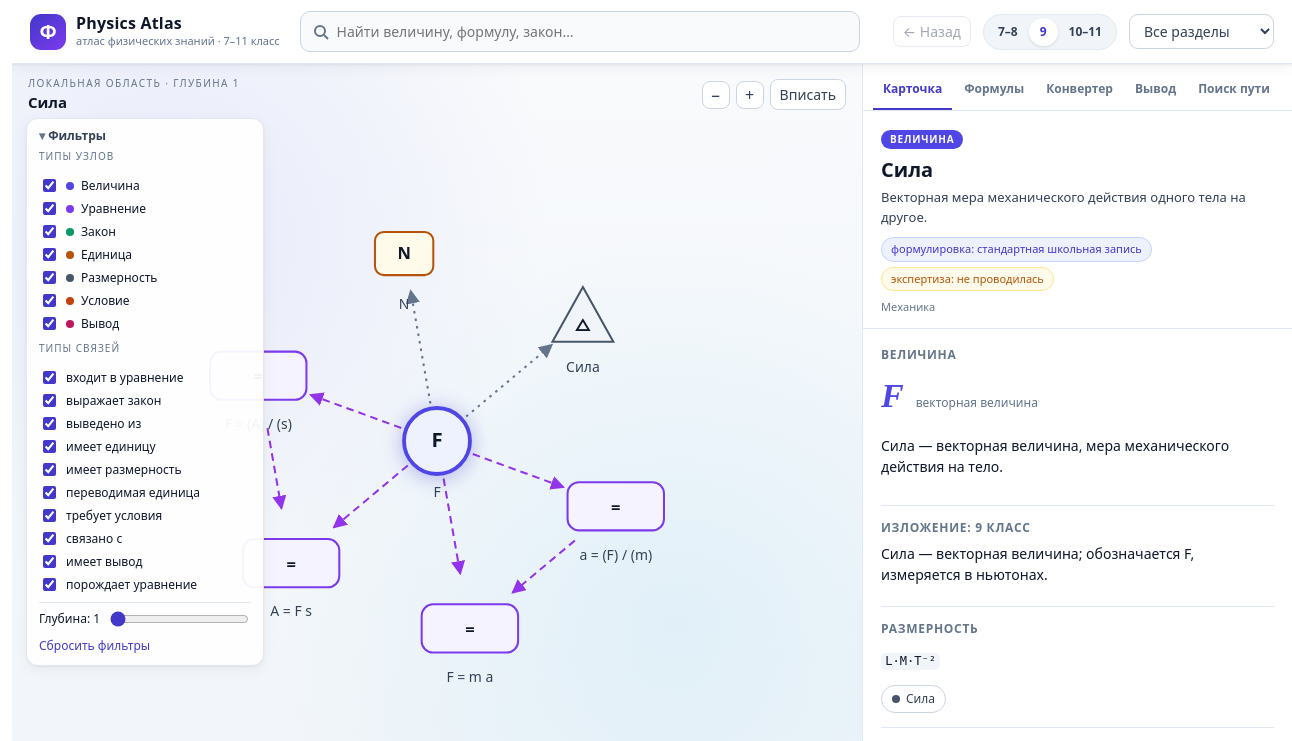
Test case: atlas application › finds a quantity through search and selects it
Step 1. Type "масса" into the dropdown named "Поиск по атласу" → (580, 32), box x1=300 y1=11 x2=860 y2=52
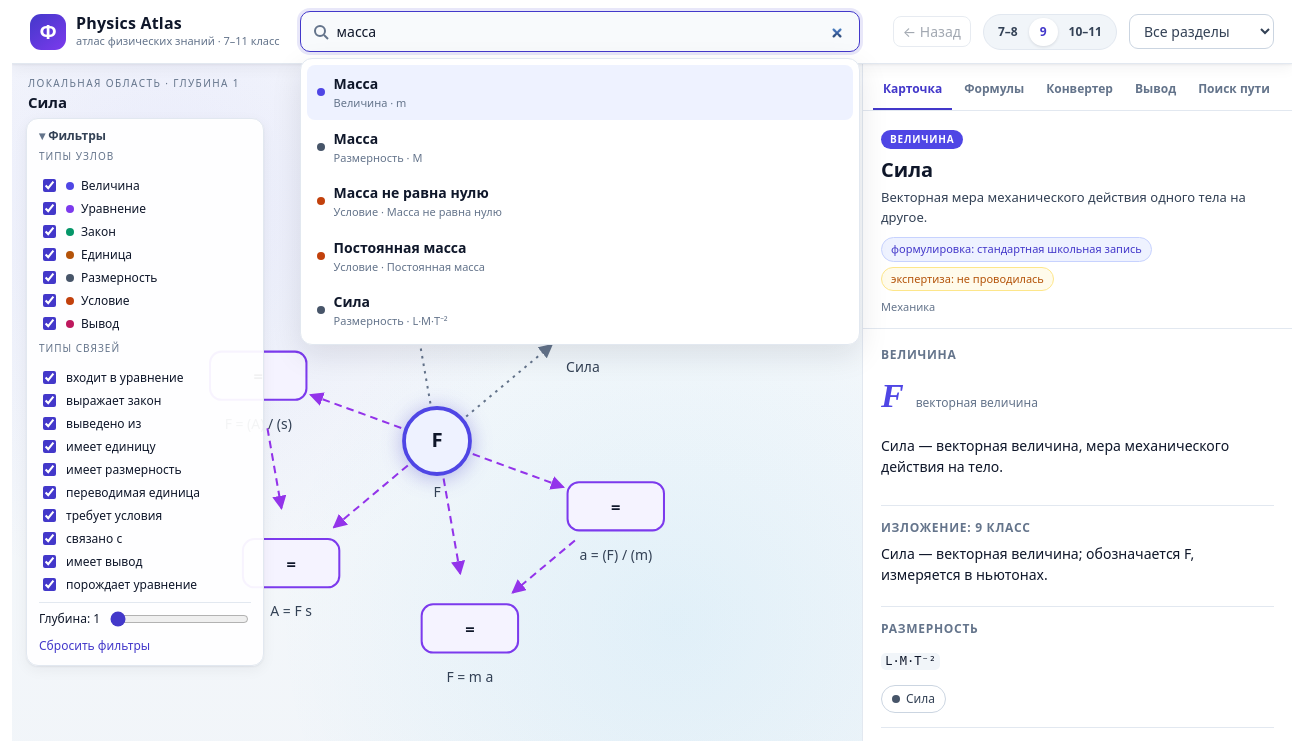
Step 2. Click the option "Масса Величина · m" → (356, 84), box x1=307 y1=65 x2=853 y2=120
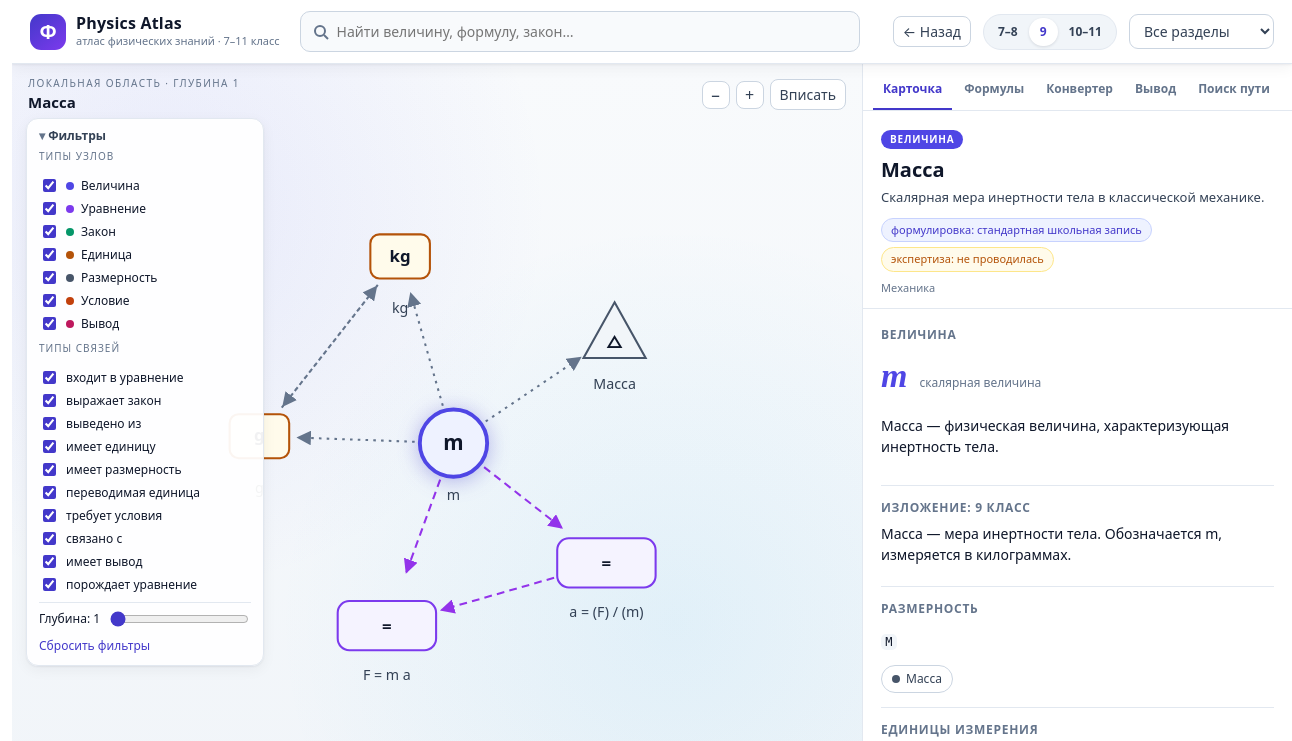
Result: the heading "Масса" is shown at x1=881 y1=156 x2=945 y2=183
